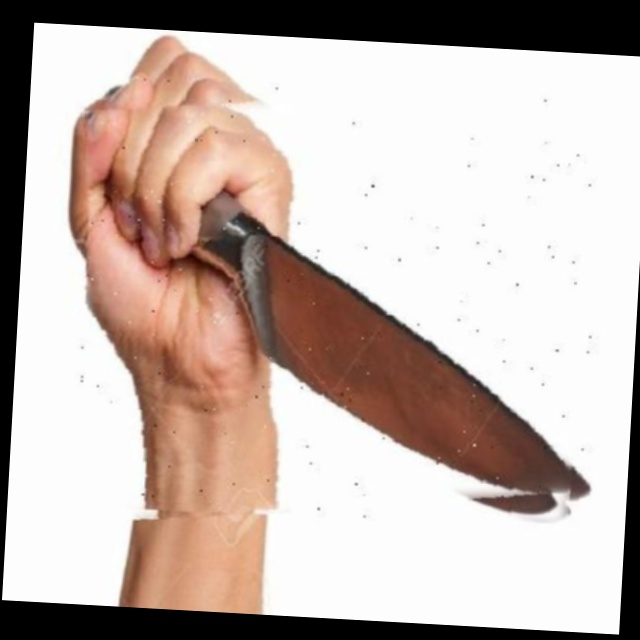Sharp-Object: (73, 75, 604, 535)
